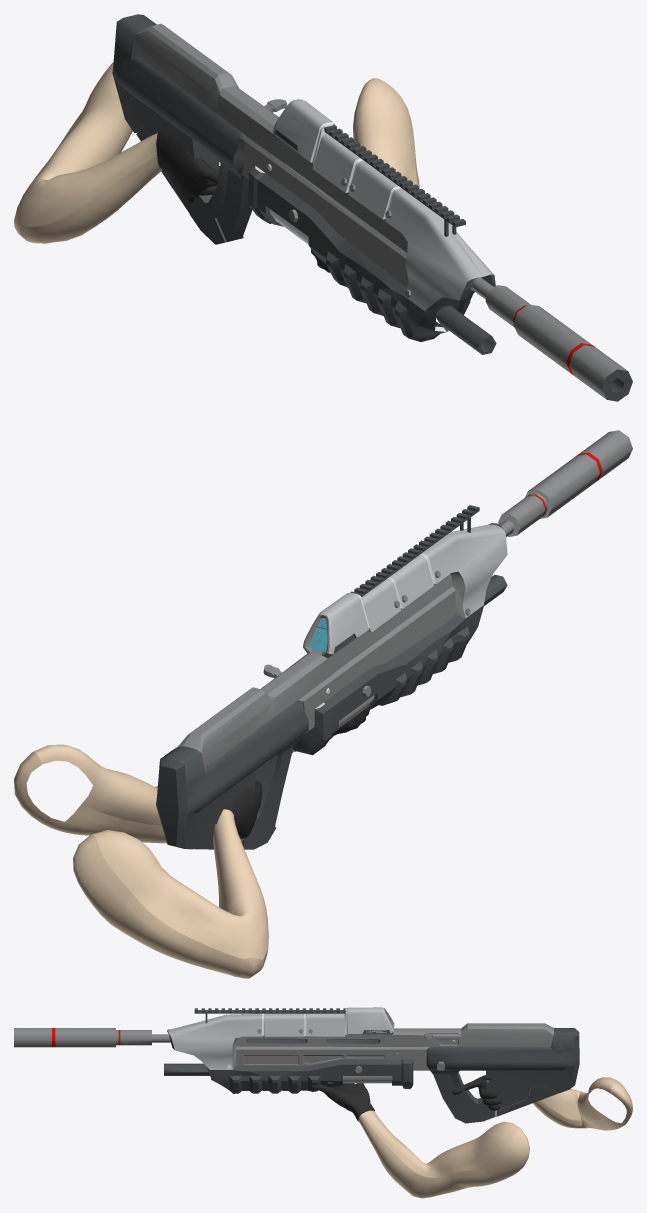
3 renders of one model, top to bottom at view 1: azimuth 30°, elevation 25°; view 2: azimuth 150°, elevation 25°; view 3: azimuth 270°, elevation 25°, orthographic. The views are drawn at different scales.
Parts seen in each view (by area): view 1: g_polySurface2_polySurface24.011_meshId4_name.011, SketchUp, SketchUp.031, SketchUp.005, SketchUp.012, g_polySurface2_polySurface24_meshId4_name, SketchUp.056, instance_2, SketchUp.011, SketchUp.016, SketchUp.015, SketchUp.054 (+3 smaller); view 2: g_polySurface2_polySurface24.011_meshId4_name.011, SketchUp, SketchUp.031, SketchUp.005, SketchUp.012, SketchUp.056, SketchUp.011, instance_2, g_polySurface2_polySurface24_meshId4_name, SketchUp.016, SketchUp.054, SketchUp.015 (+1 smaller); view 3: g_polySurface2_polySurface24.011_meshId4_name.011, SketchUp, SketchUp.031, SketchUp.005, SketchUp.012, g_polySurface2_polySurface24_meshId4_name, SketchUp.056, SketchUp.011, SketchUp.016, SketchUp.015, instance_2, SketchUp.054 (+5 smaller).
Part boxes in pixels (<box>): g_polySurface2_polySurface24.011_meshId4_name.011: <box>14,62,419,243</box>; SketchUp: <box>135,23,408,290</box>; SketchUp.031: <box>112,14,252,244</box>; SketchUp.005: <box>248,166,495,341</box>; SketchUp.012: <box>385,188,493,310</box>; g_polySurface2_polySurface24_meshId4_name: <box>156,131,330,272</box>; SketchUp.056: <box>513,304,591,373</box>; instance_2: <box>323,124,465,236</box>; SketchUp.011: <box>272,99,332,161</box>; SketchUp.016: <box>348,160,398,219</box>; SketchUp.015: <box>312,134,360,192</box>; SketchUp.054: <box>569,345,627,399</box>; g_polySurface2_polySurface24.011_meshId4_name.011: <box>14,744,294,978</box>; SketchUp: <box>178,571,465,768</box>; SketchUp.031: <box>156,700,308,849</box>; SketchUp.005: <box>293,523,503,755</box>; SketchUp.012: <box>422,524,507,617</box>; SketchUp.056: <box>528,454,599,516</box>; SketchUp.011: <box>303,593,368,654</box>; instance_2: <box>350,505,479,597</box>; g_polySurface2_polySurface24_meshId4_name: <box>224,709,369,838</box>; SketchUp.016: <box>389,555,433,608</box>; SketchUp.054: <box>579,430,632,479</box>; SketchUp.015: <box>361,578,400,632</box>; g_polySurface2_polySurface24.011_meshId4_name.011: <box>358,1077,632,1198</box>; SketchUp: <box>232,1008,553,1070</box>; SketchUp.031: <box>426,1028,579,1123</box>; SketchUp.005: <box>167,1029,413,1093</box>; SketchUp.012: <box>168,1013,261,1069</box>; g_polySurface2_polySurface24_meshId4_name: <box>311,1075,501,1121</box>; SketchUp.056: <box>55,1028,115,1047</box>; SketchUp.011: <box>347,1007,394,1033</box>; SketchUp.016: <box>265,1013,304,1036</box>; SketchUp.015: <box>307,1013,344,1036</box>; instance_2: <box>194,1008,346,1022</box>; SketchUp.054: <box>14,1028,51,1047</box>.
Bounding box in the file's own units: 0.081 × 0.0614 × 0.2317.
